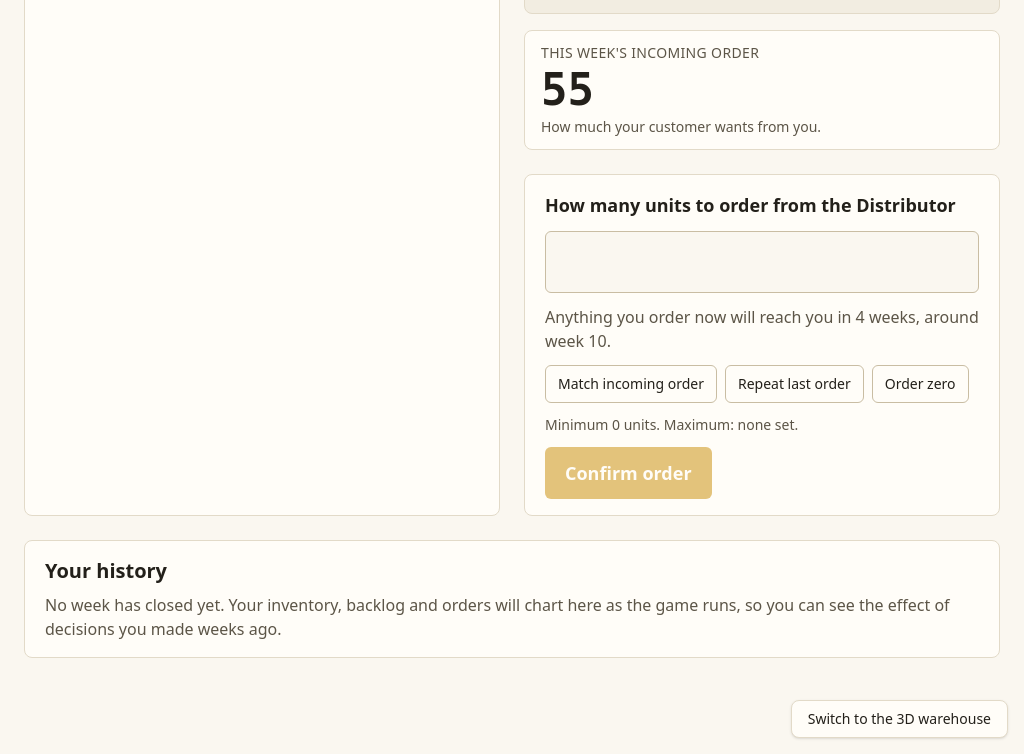
it: CRITERION 12: the three quick-fill buttons fill the right numbers › "Repeat last order" fills last_order
(page scrolled)
Click the button "Repeat last order" at (794, 384), box [725,365,864,403]
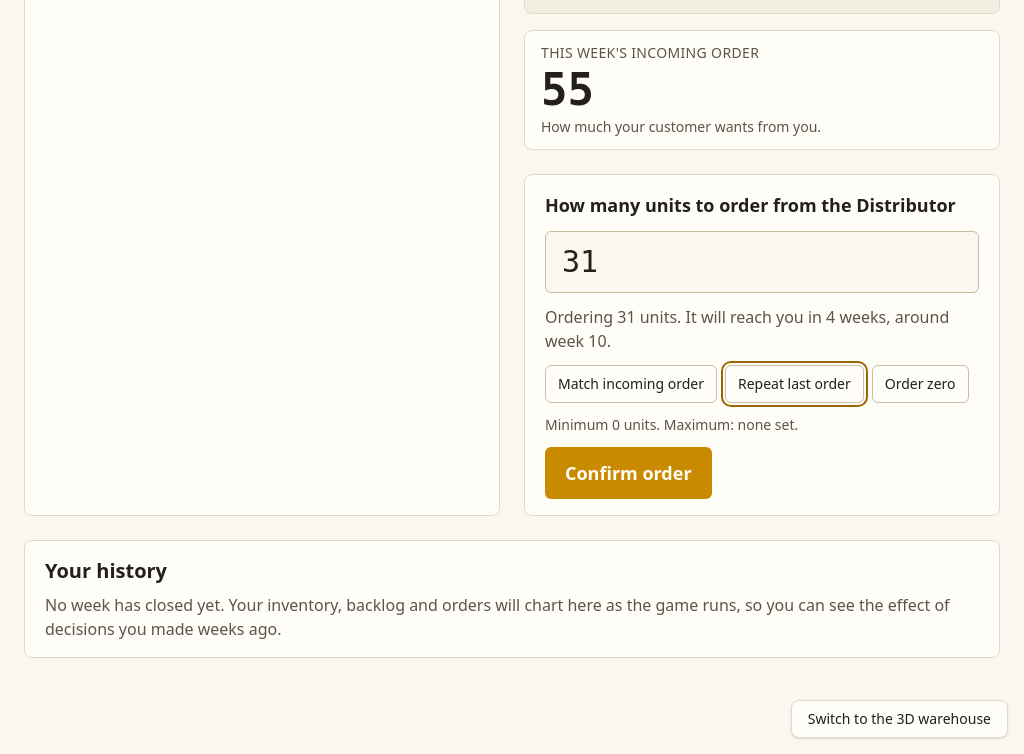
Expected: the number field labelled "How many units to order from the Distributor" holds "31", [545,231,979,293]
